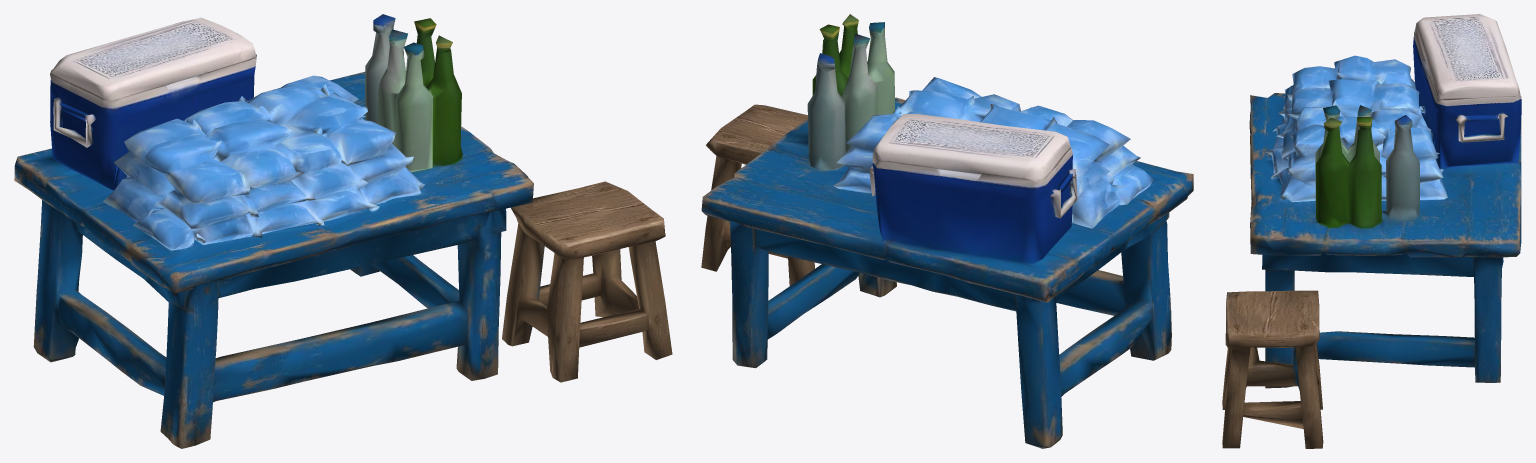
File: vendor-table.glb
3 views of the same model, side by side, from view 1: azimuth 30°, elevation 25°; view 2: azimuth 150°, elevation 25°; view 3: azimuth 270°, elevation 25° (orthographic). The views are drawn at different scales.
Parts seen in each view (by area): view 1: tripo_node_14e153ae-4634-4f66-930c-bbcc98da64f2; view 2: tripo_node_14e153ae-4634-4f66-930c-bbcc98da64f2; view 3: tripo_node_14e153ae-4634-4f66-930c-bbcc98da64f2.
Boxes of the visible parts, bbox=[...] form: tripo_node_14e153ae-4634-4f66-930c-bbcc98da64f2: bbox=[14, 14, 672, 448]; tripo_node_14e153ae-4634-4f66-930c-bbcc98da64f2: bbox=[701, 14, 1193, 448]; tripo_node_14e153ae-4634-4f66-930c-bbcc98da64f2: bbox=[1222, 14, 1521, 448].
Size of the model in its own units: 1 by 0.6183 by 0.634.
1 material, 1 textured.
